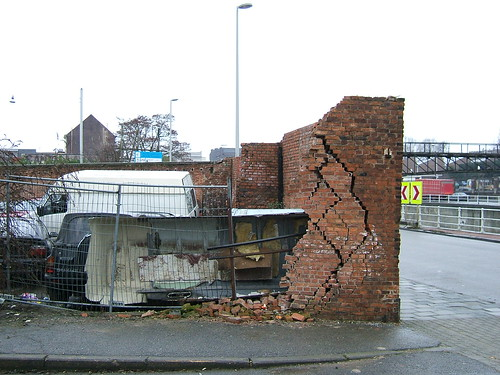building: (275, 90, 403, 321), (66, 117, 116, 159)
sky: (4, 1, 500, 134)
street: (402, 218, 500, 375)
